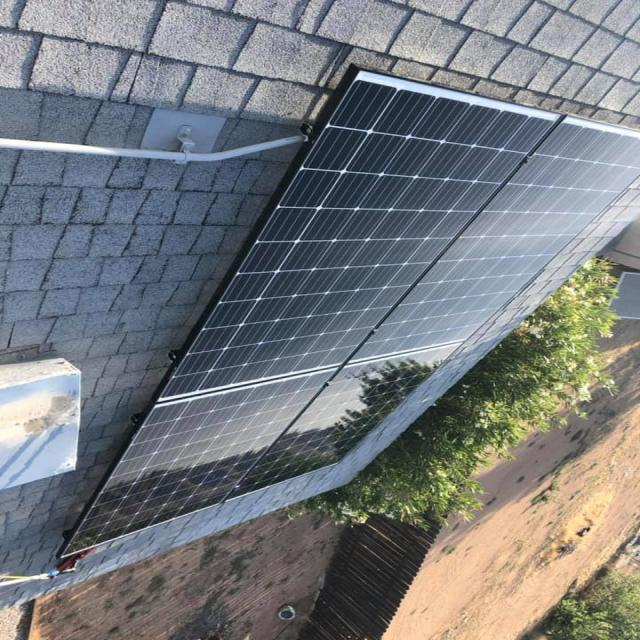clean-solar-panel: (60, 68, 638, 572)
